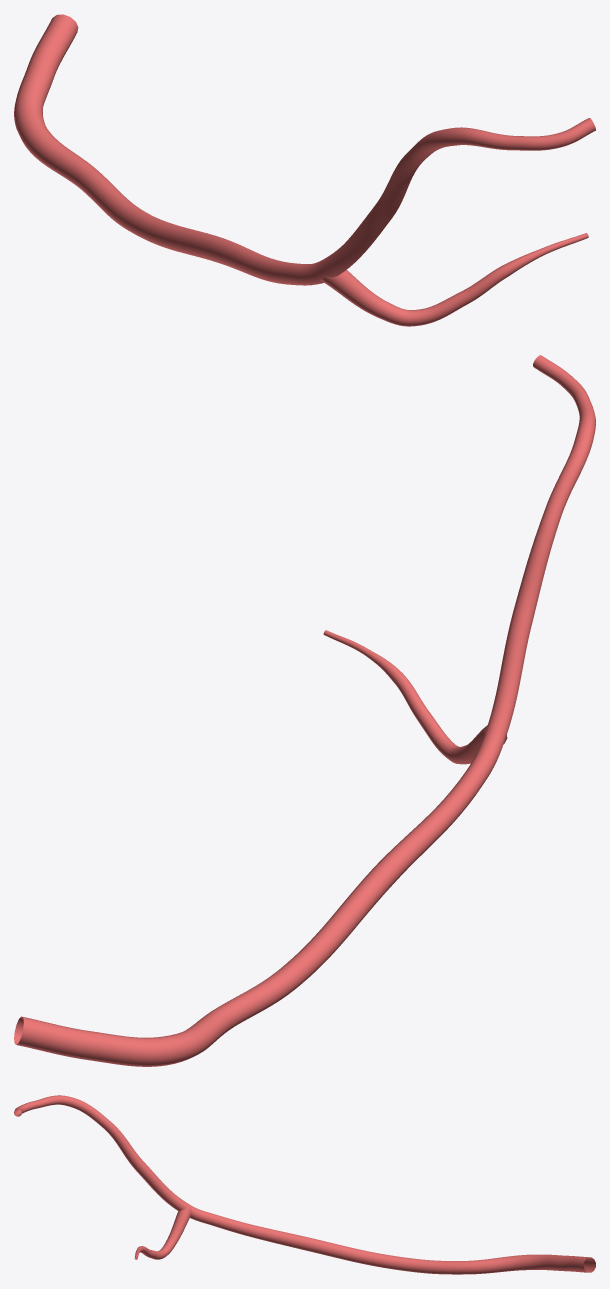
File: Orbitofrontal_branches_anterior_cerebral_artery_left.glb
3 renders of one model, top to bottom at view 1: azimuth 30°, elevation 25°; view 2: azimuth 150°, elevation 25°; view 3: azimuth 270°, elevation 25°, orthographic. The views are drawn at different scales.
Visible parts, largest first — view 1: Orbitofrontal_branches_of_anterior_cerebral_artery.l_BezierC; view 2: Orbitofrontal_branches_of_anterior_cerebral_artery.l_BezierC; view 3: Orbitofrontal_branches_of_anterior_cerebral_artery.l_BezierC.
Part boxes in pixels (left/top/right/bottom): Orbitofrontal_branches_of_anterior_cerebral_artery.l_BezierC: left=14, top=14, right=595, bottom=326; Orbitofrontal_branches_of_anterior_cerebral_artery.l_BezierC: left=14, top=355, right=595, bottom=1066; Orbitofrontal_branches_of_anterior_cerebral_artery.l_BezierC: left=14, top=1095, right=595, bottom=1274.
Bounding box in the file's own units: 0.0147 × 0.0212 × 0.0586.
